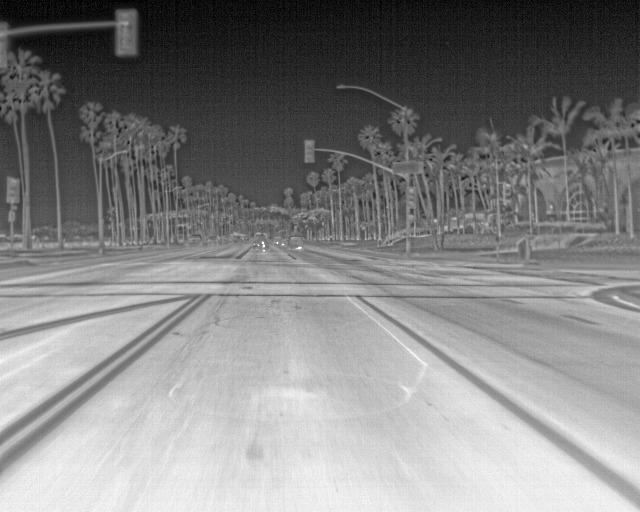car: (286, 235, 303, 251), (253, 238, 269, 250), (188, 234, 203, 246), (171, 234, 184, 244), (222, 234, 234, 244), (207, 235, 218, 245), (279, 239, 288, 248), (273, 237, 282, 245)
light: (116, 9, 137, 56), (0, 22, 8, 68), (305, 140, 315, 162), (9, 179, 17, 201), (408, 188, 416, 208), (9, 211, 15, 222), (408, 215, 414, 223)
sign: (392, 161, 423, 174)
